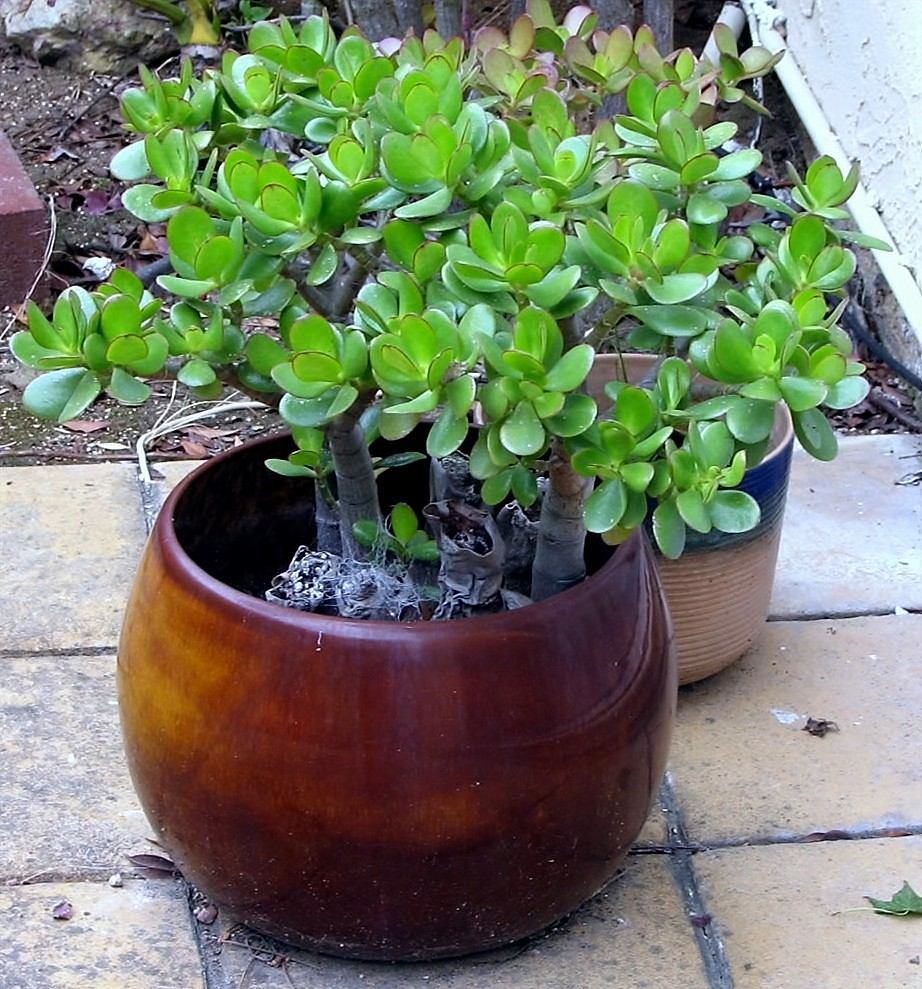potted plant: (89, 20, 703, 958)
